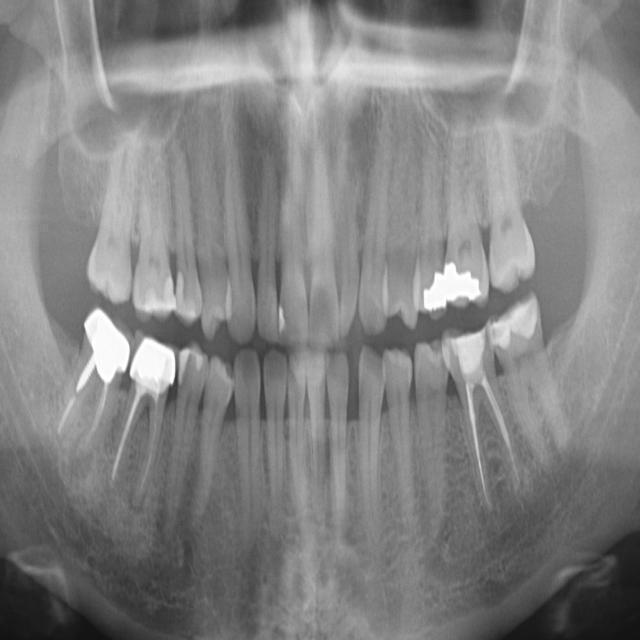infected-teeth: (441, 324, 524, 512), (50, 311, 128, 460), (109, 338, 175, 495)
